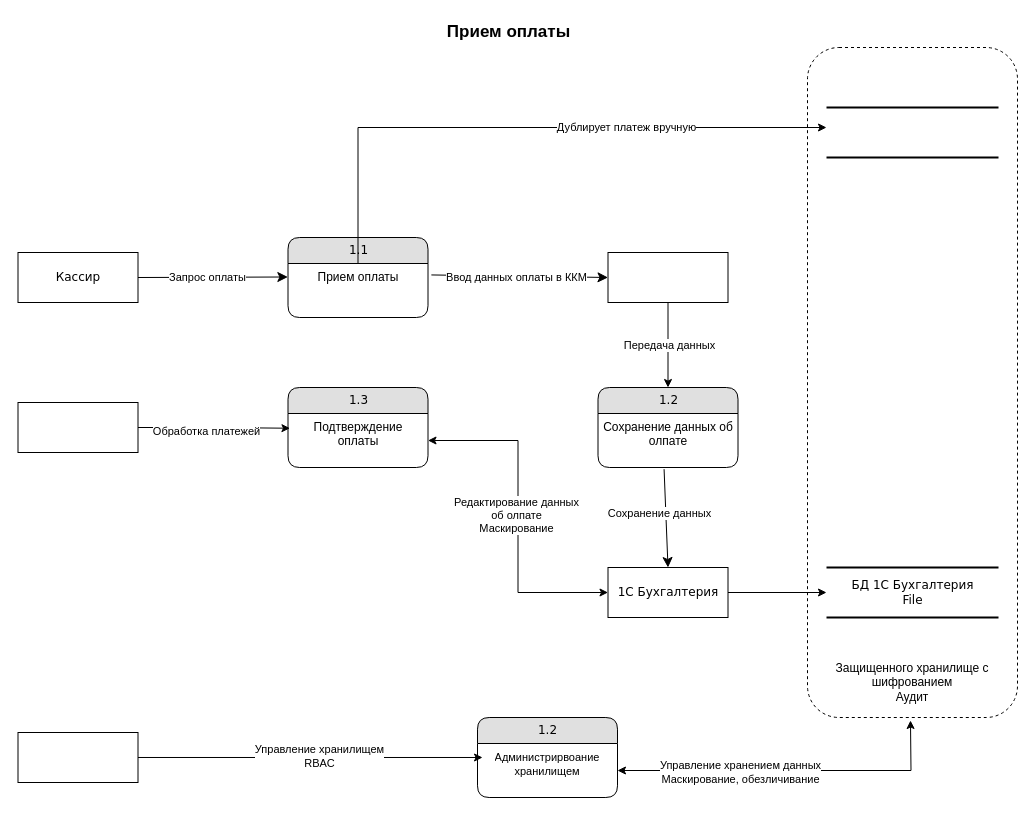
Image size: 1035x817. Some labels were removed from this diagram. Each missing label, with the centre of its shape:
IT-отдел: the point at 77,757
Бухгалтер: the point at 77,427
ККМ: the point at 667,277
Учет оплат Excel file: the point at 912,132
